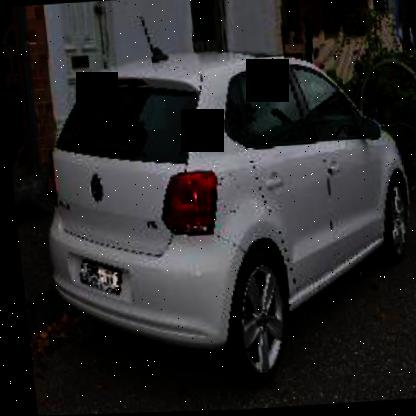not_emergency: (26, 40, 415, 372)
